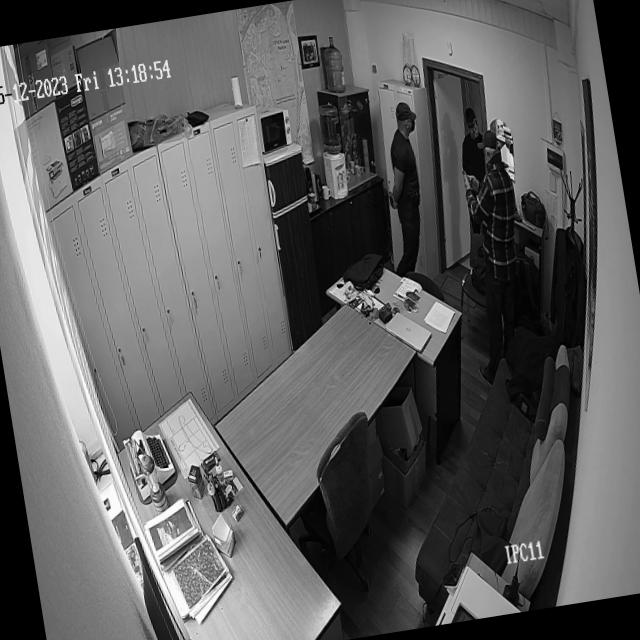person: (441, 125, 546, 394), (368, 96, 443, 278)
